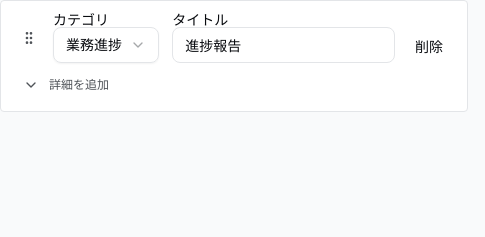
Test: SortableTopicItem - デフォルト折りたたみ › 「詳細を追加」をクリックするとメモが表示される
The width and height of the screenshot is (485, 237).
Click the button "詳細を追加".
click(66, 85)  # box [13,71,119,99]
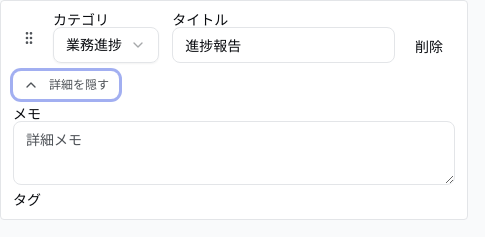
Result: the text box with placeholder "詳細メモ" is shown at [13,121,455,185]
